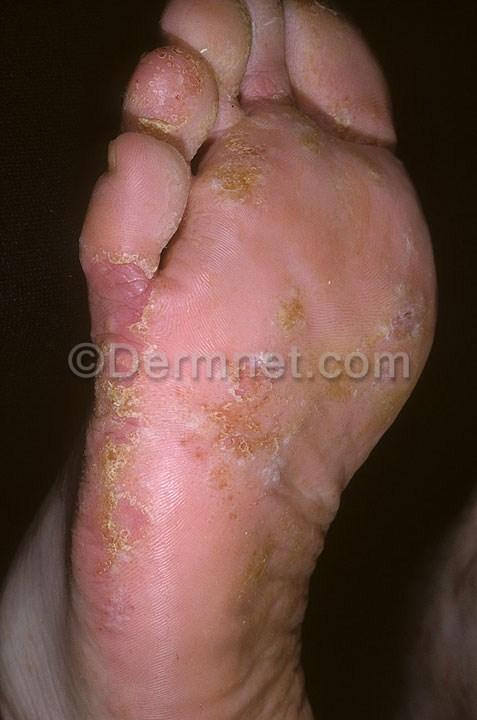Eczema: (194, 353, 306, 502), (85, 378, 166, 571), (73, 231, 199, 348), (219, 0, 294, 110), (127, 72, 210, 168), (203, 114, 277, 213), (374, 288, 450, 364), (295, 107, 362, 174), (244, 280, 336, 328), (380, 220, 438, 278), (149, 28, 218, 76), (303, 0, 351, 40)
